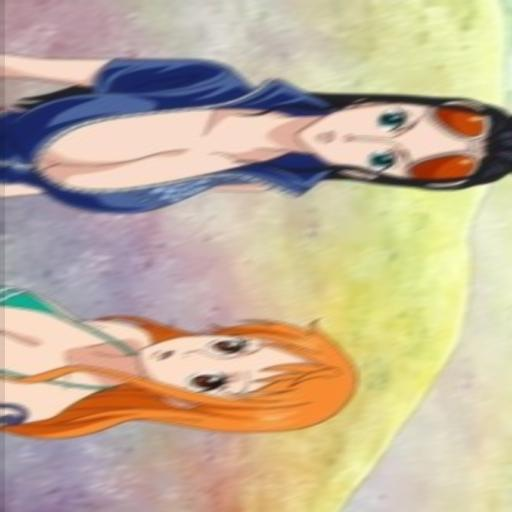Nami: (122, 319, 339, 435)
NicoRobin: (259, 84, 512, 190)
